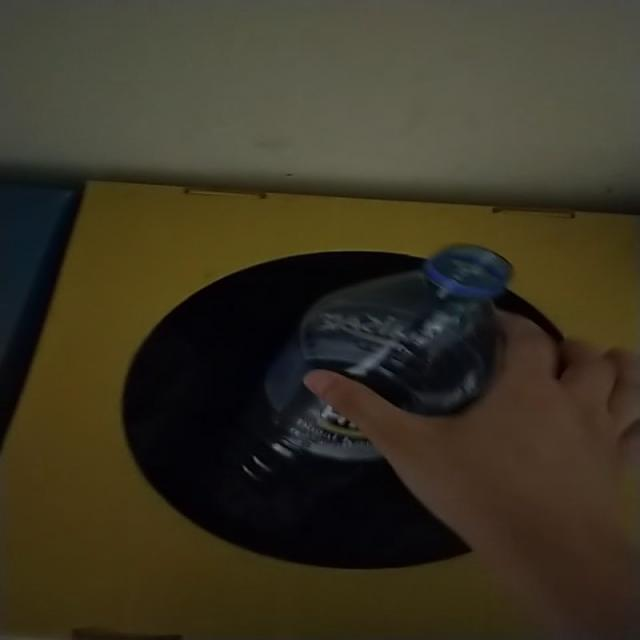Plastic: (240, 244, 513, 482)
